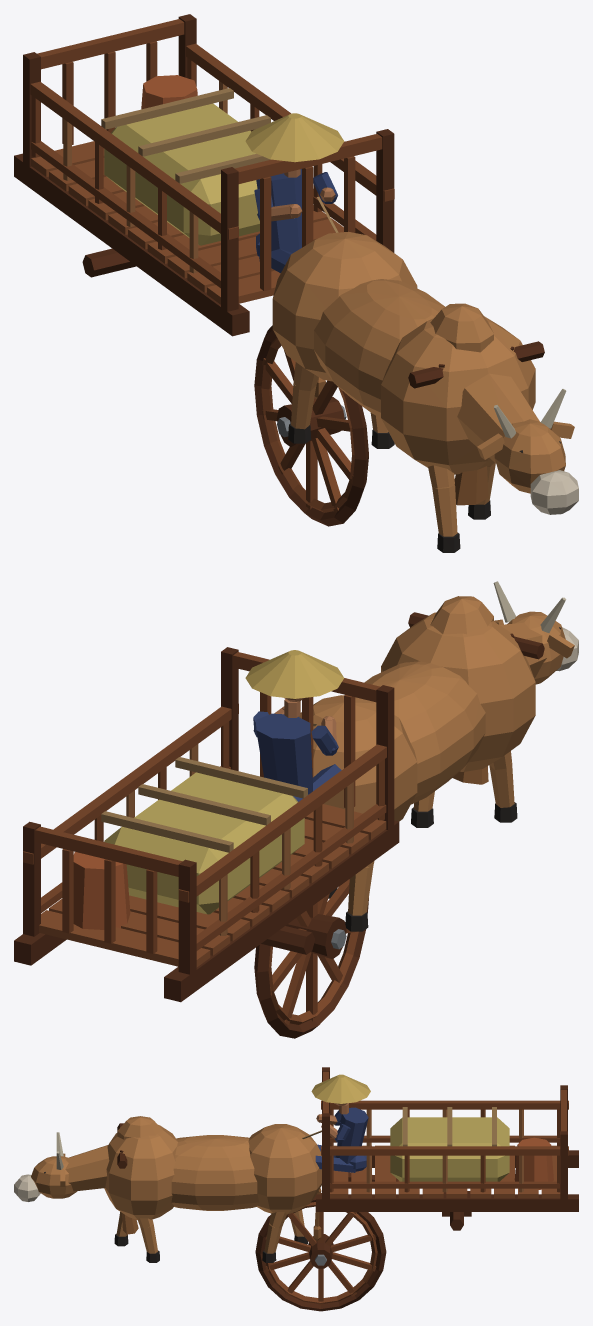
File: ox_cart.glb
The picture shows the model from 3 angles, top to bottom: view 1: azimuth 30°, elevation 25°; view 2: azimuth 150°, elevation 25°; view 3: azimuth 270°, elevation 25°; orthographic projection. The views are drawn at different scales.
Parts seen in each view (by area): view 1: body, wheel0; view 2: body, wheel0; view 3: body, wheel0.
Boxes of the visible parts, bbox=[...] form: body: bbox=[14, 14, 578, 552]; wheel0: bbox=[254, 325, 368, 526]; body: bbox=[14, 581, 578, 1002]; wheel0: bbox=[254, 879, 368, 1038]; body: bbox=[14, 1067, 578, 1262]; wheel0: bbox=[255, 1193, 386, 1311].
Bounding box in the file's own units: 1.55 × 2.62 × 5.69.
